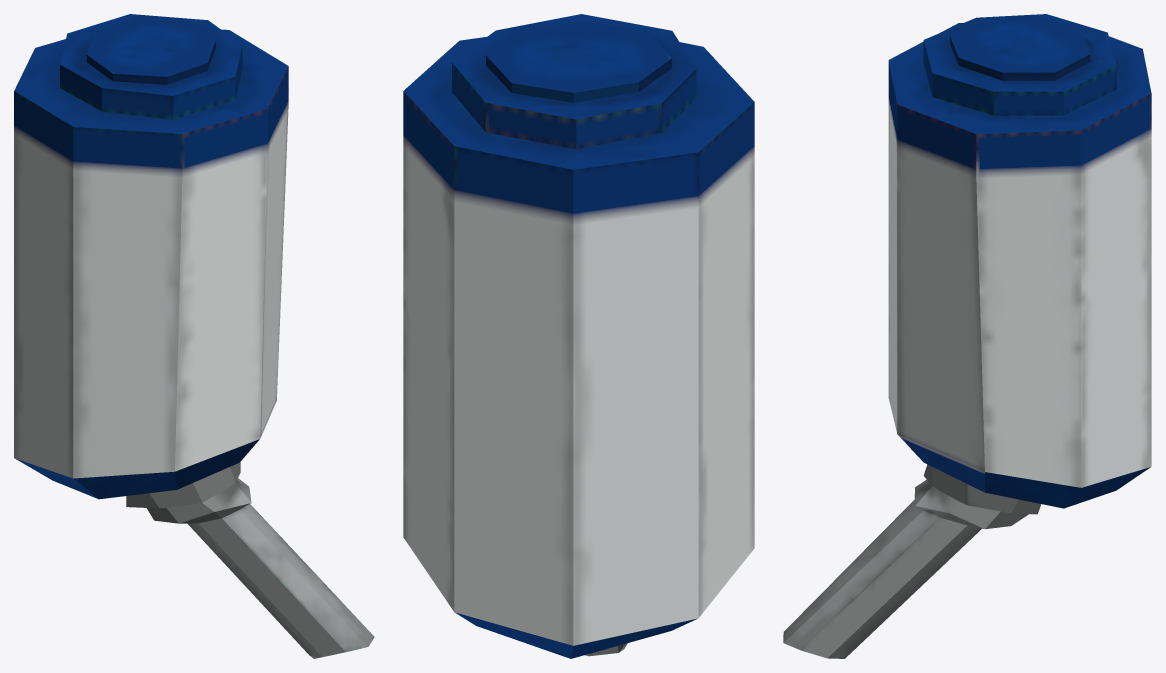
Rendered from water_feeder_1.fbx.
3 views of the same model, side by side, from view 1: azimuth 30°, elevation 25°; view 2: azimuth 150°, elevation 25°; view 3: azimuth 270°, elevation 25° (orthographic). The views are drawn at different scales.
Parts seen in each view (by area): view 1: water feeder; view 2: water feeder; view 3: water feeder.
Part boxes in pixels (x1=…): water feeder: x1=14, y1=14, x2=374, y2=658; water feeder: x1=403, y1=14, x2=754, y2=658; water feeder: x1=783, y1=14, x2=1151, y2=658.
Bounding box in the file's own units: 215 × 492 × 291.
1 material, 1 textured.
